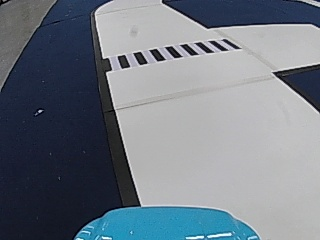CrossWalk: (109, 37, 236, 68)
